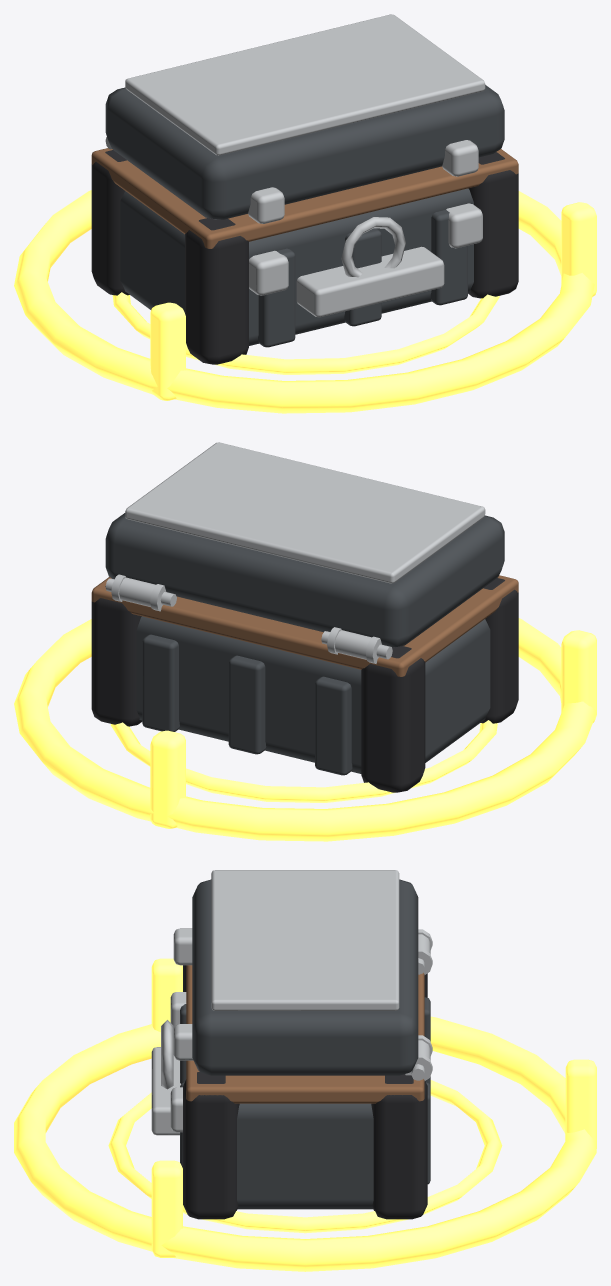
The model's file is fps-survival-forest-outpost-loot-cache-legendary-975367a5__32661.glb.
The picture shows the model from 3 angles, top to bottom: view 1: azimuth 30°, elevation 25°; view 2: azimuth 150°, elevation 25°; view 3: azimuth 270°, elevation 25°; orthographic projection.
Visible parts, largest first — view 1: loot-cache-legendary, lid/steel, lid/gunmetal; view 2: loot-cache-legendary, lid/steel, lid/gunmetal; view 3: loot-cache-legendary, lid/steel, lid/gunmetal.
Part boxes in pixels (x1,y1,x2,y2): loot-cache-legendary: [14, 137, 596, 413]; lid/steel: [125, 14, 485, 223]; lid/gunmetal: [105, 85, 504, 219]; loot-cache-legendary: [14, 574, 596, 841]; lid/steel: [125, 442, 485, 583]; lid/gunmetal: [105, 513, 504, 647]; loot-cache-legendary: [14, 929, 596, 1271]; lid/steel: [173, 870, 399, 1060]; lid/gunmetal: [192, 879, 418, 1075].
Bounding box in the file's own units: 0.936 × 0.385 × 0.9296.
